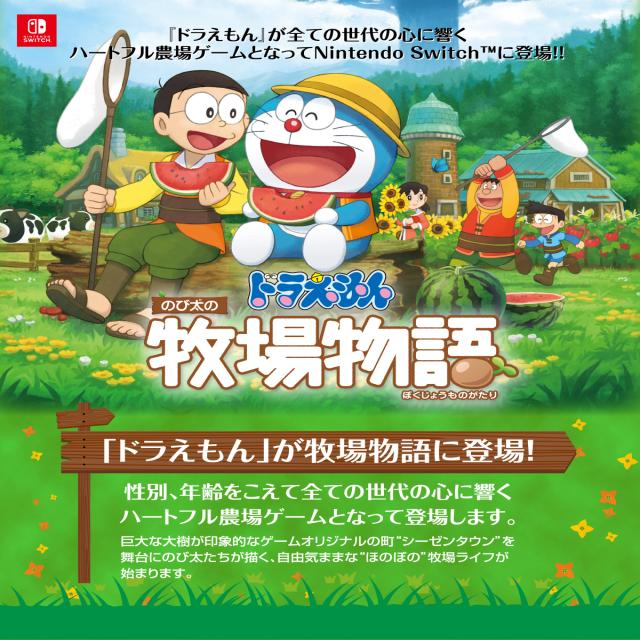doraemon: (227, 76, 400, 218)
jaian: (469, 174, 513, 217)
nobita: (132, 57, 265, 175)
shizuka: (397, 177, 435, 214)
suneo: (525, 192, 571, 242)
